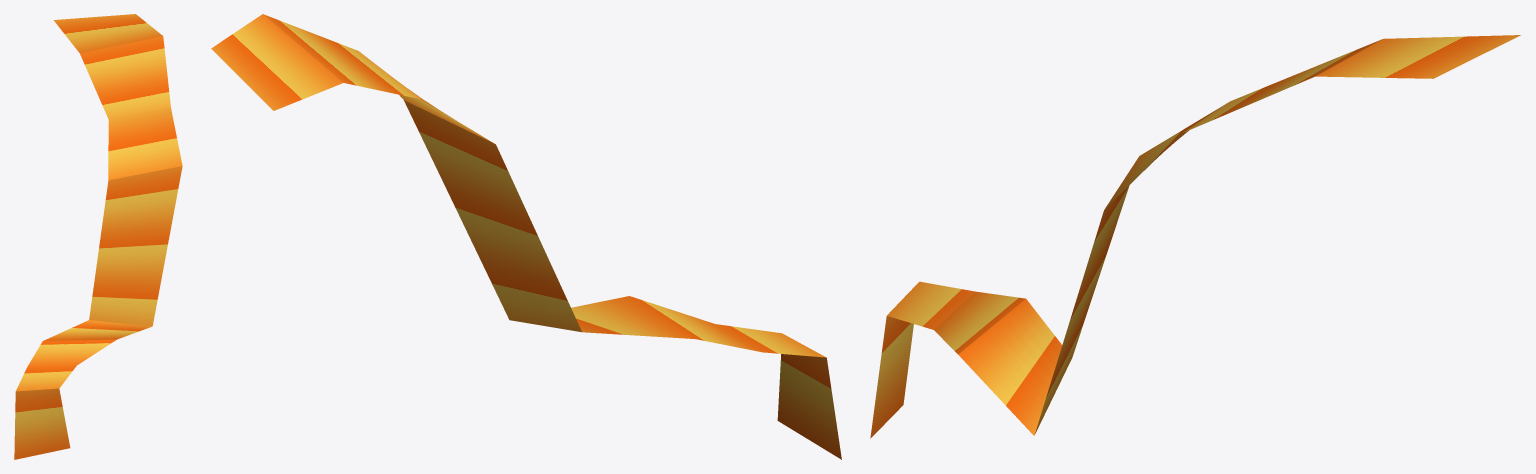
File: Lave.fbx
The picture shows the model from 3 angles, left to right: view 1: azimuth 30°, elevation 25°; view 2: azimuth 150°, elevation 25°; view 3: azimuth 270°, elevation 25°; orthographic projection. The views are drawn at different scales.
Visible parts, largest first — view 1: ITM_Lave; view 2: ITM_Lave; view 3: ITM_Lave.
Boxes of the visible parts, x1,y1,x2,y2 form: ITM_Lave: (14, 14, 182, 459); ITM_Lave: (211, 14, 841, 459); ITM_Lave: (870, 35, 1520, 438).
Bounding box in the file's own units: 7.95 × 8.59 × 8.83.
